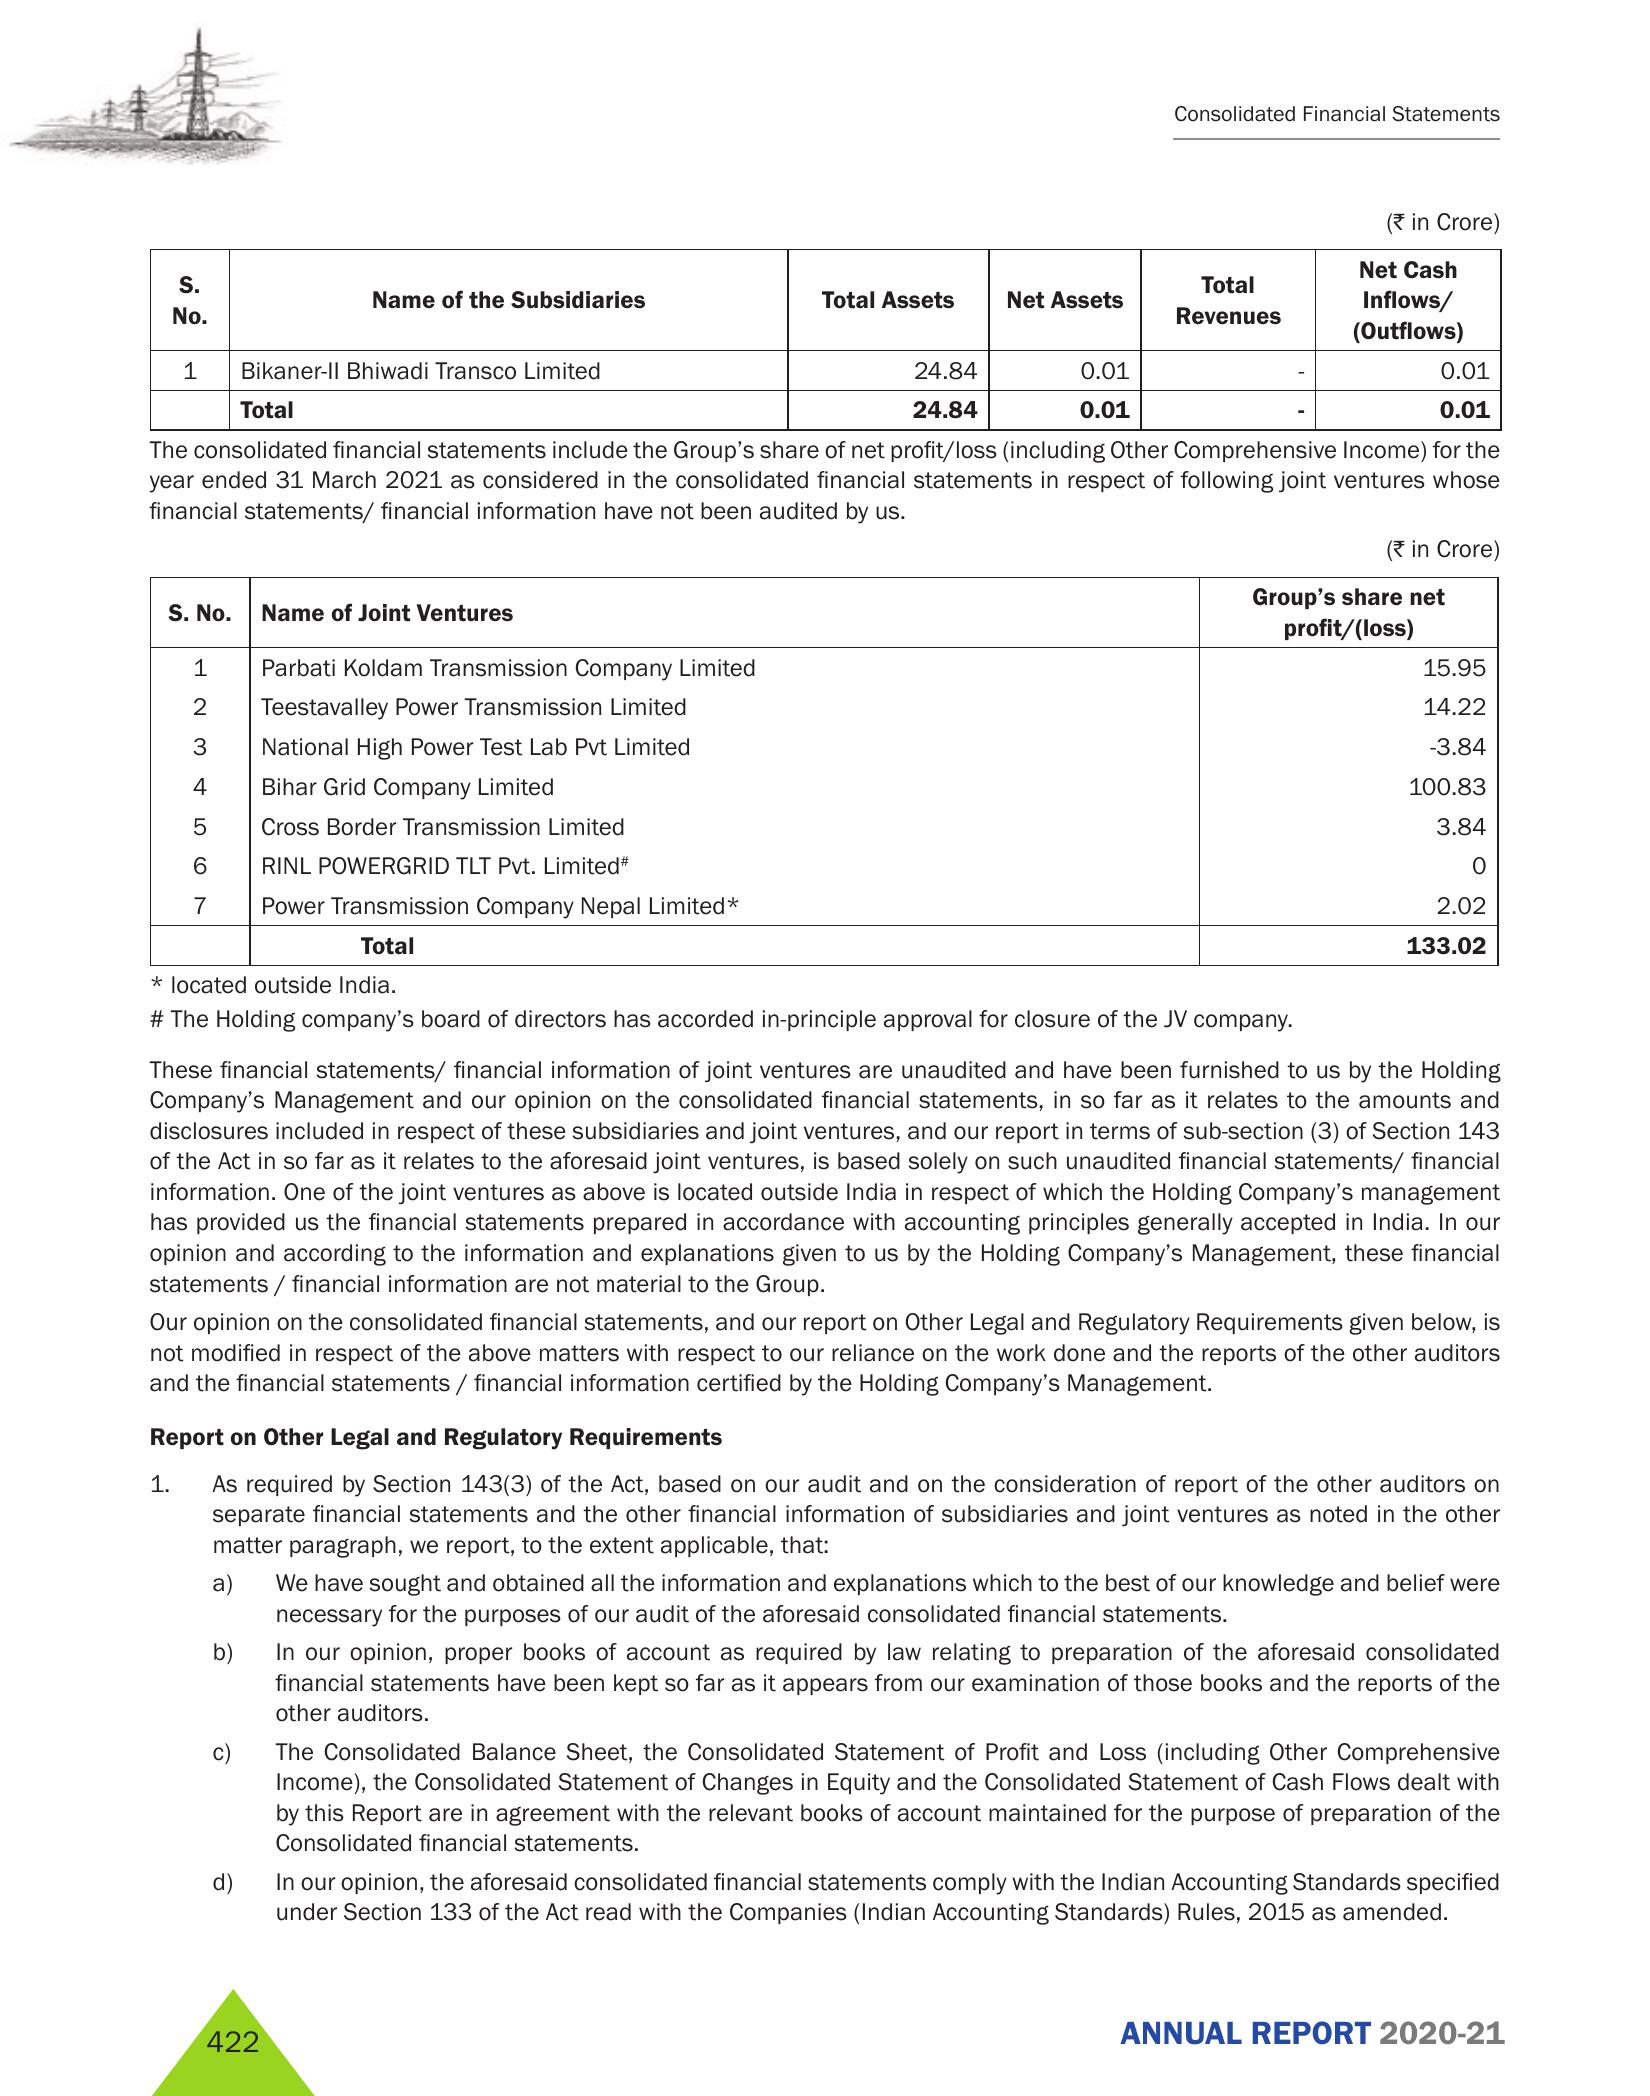Footer: (0, 1968, 1650, 2096)
Header: (0, 0, 1650, 175)
Table: (139, 572, 1511, 965), (146, 242, 1507, 425)
